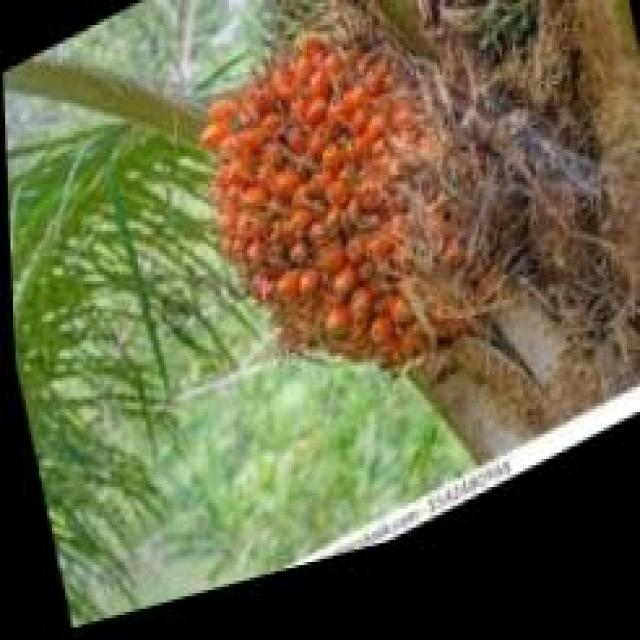Ripefruit: (195, 0, 502, 462)
